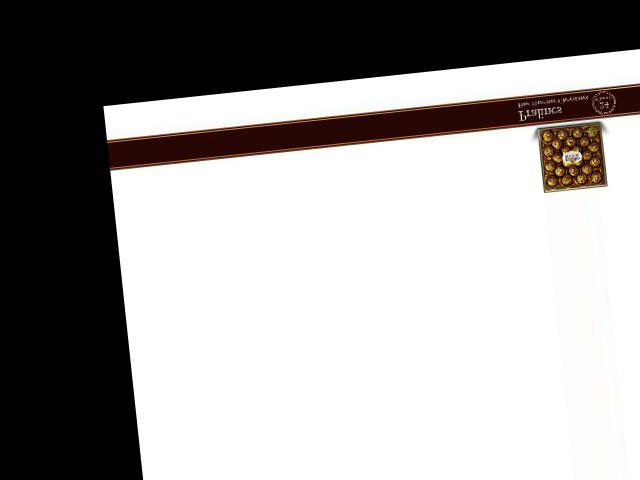chocolate: (534, 118, 612, 197)
